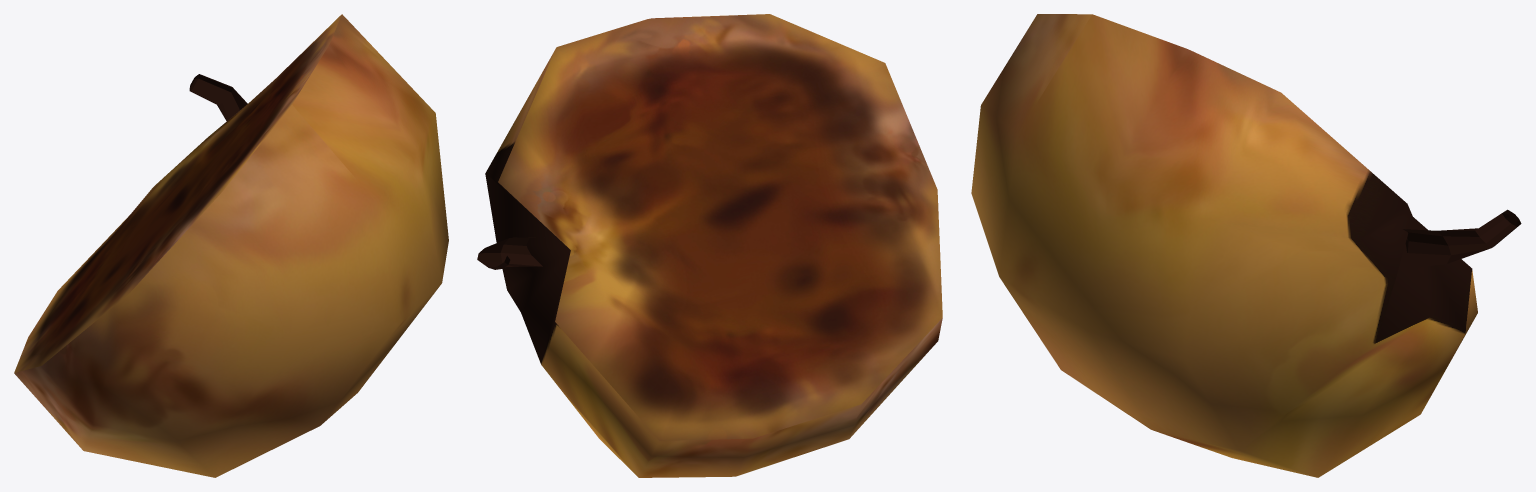
File: fruit_LO_2.fbx
The picture shows the model from 3 angles, left to right: view 1: azimuth 30°, elevation 25°; view 2: azimuth 150°, elevation 25°; view 3: azimuth 270°, elevation 25°; orthographic projection. The views are drawn at different scales.
Visible parts, largest first — view 1: Pumpkin.001; view 2: Pumpkin.001; view 3: Pumpkin.001.
Part boxes in pixels (x1,y1,x2,y2): Pumpkin.001: (14, 14, 448, 477); Pumpkin.001: (477, 14, 942, 477); Pumpkin.001: (971, 14, 1521, 477).
Size of the model in its own units: 5.77 by 5.35 by 6.01.
1 material, 1 textured.
